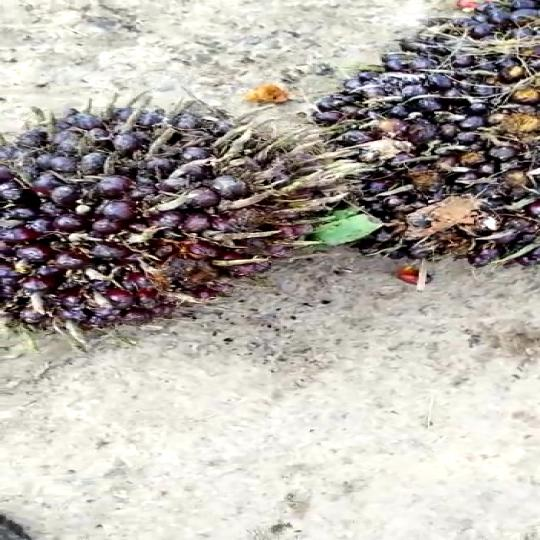kurang masak: (0, 90, 303, 343), (273, 0, 539, 276)
